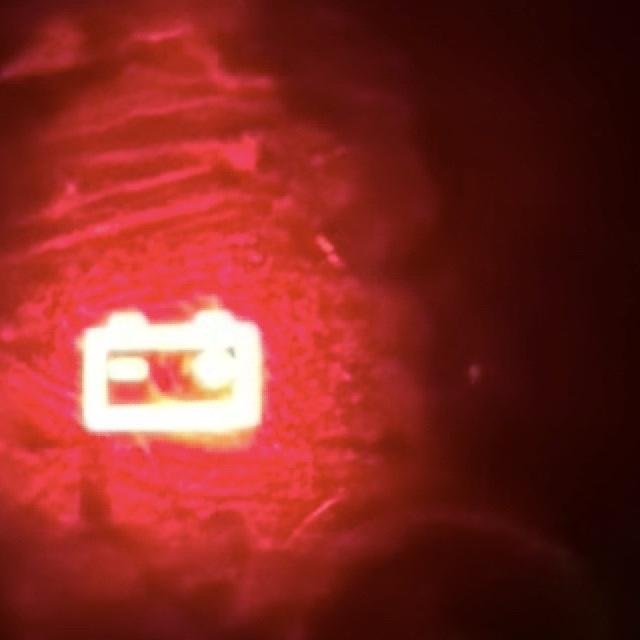Battery Issue: (79, 304, 268, 443)
